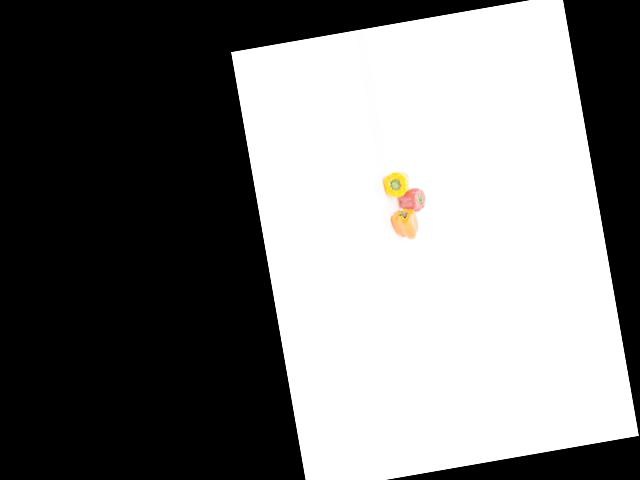bell_pepper: (381, 168, 413, 202)
